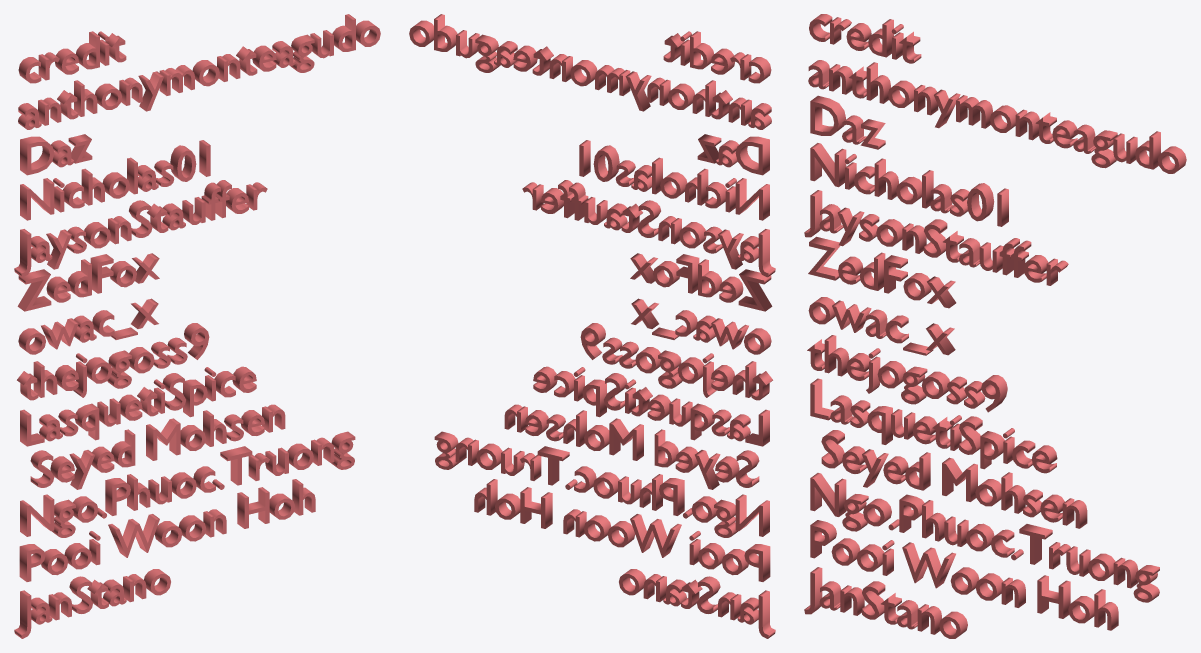
The model's file is credit.glb.
3 views of the same model, side by side, from view 1: azimuth 30°, elevation 25°; view 2: azimuth 150°, elevation 25°; view 3: azimuth 330°, elevation 25° (orthographic). The views are drawn at different scales.
Visible parts, largest first — view 1: Text; view 2: Text; view 3: Text.
Boxes of the visible parts, <box> form: Text: <box>14,14,380,638</box>; Text: <box>409,14,775,638</box>; Text: <box>804,14,1186,638</box>.
Bounding box in the file's own units: 5.71 × 8.86 × 0.196.
